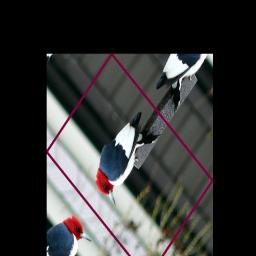Woodpecker: (84, 99, 163, 212)
